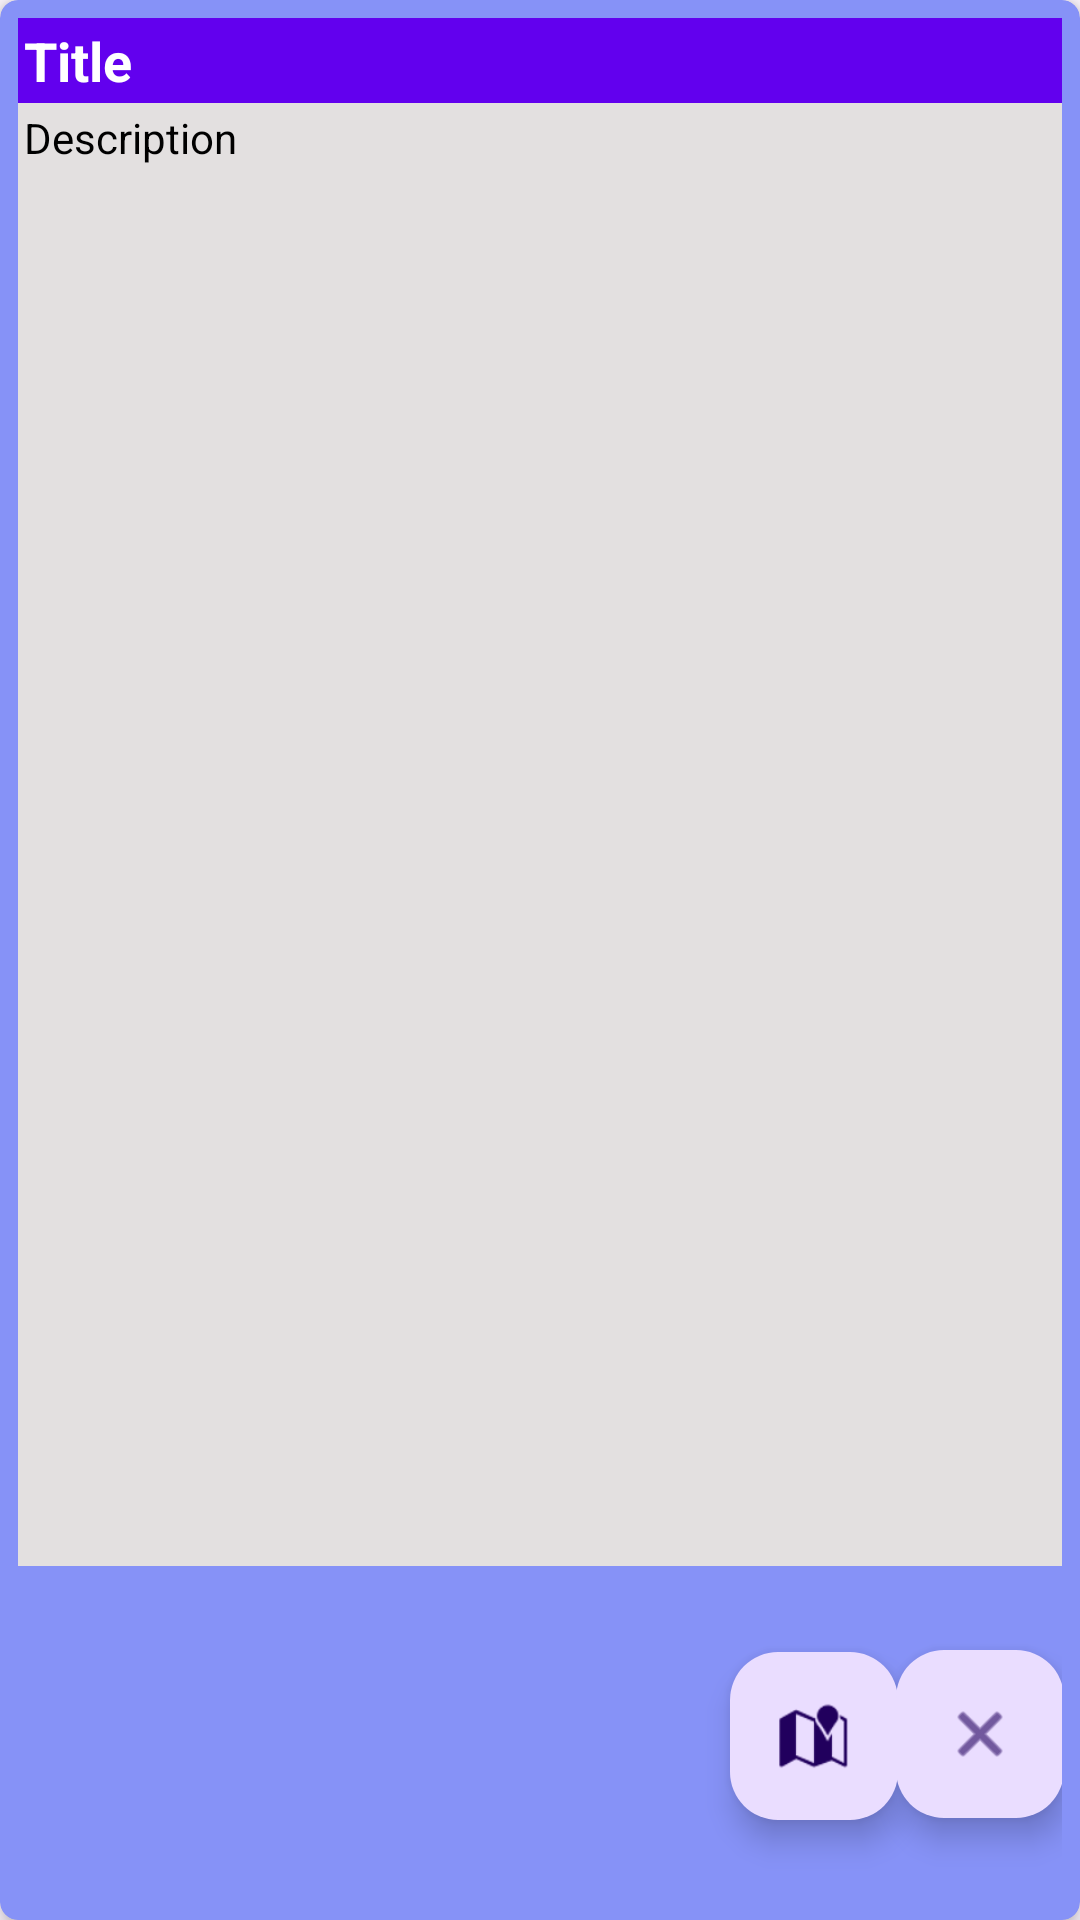

Where to tap for icons on this 1080 x 1920 app screen, as (x,y):
close clear cancel: (979,1734)
map: (814,1736)
